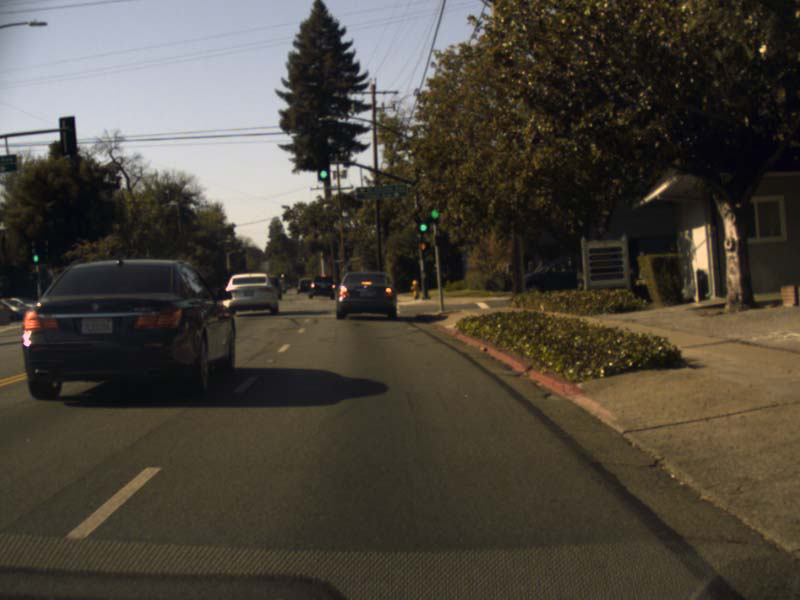Green: (417, 206, 429, 231), (317, 154, 328, 179), (429, 194, 438, 219), (30, 242, 38, 263)
